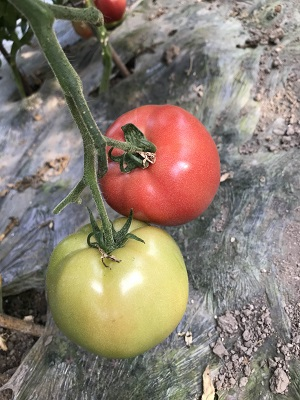immature-tomato: (45, 217, 188, 359)
mature-tomato: (97, 103, 220, 227)
